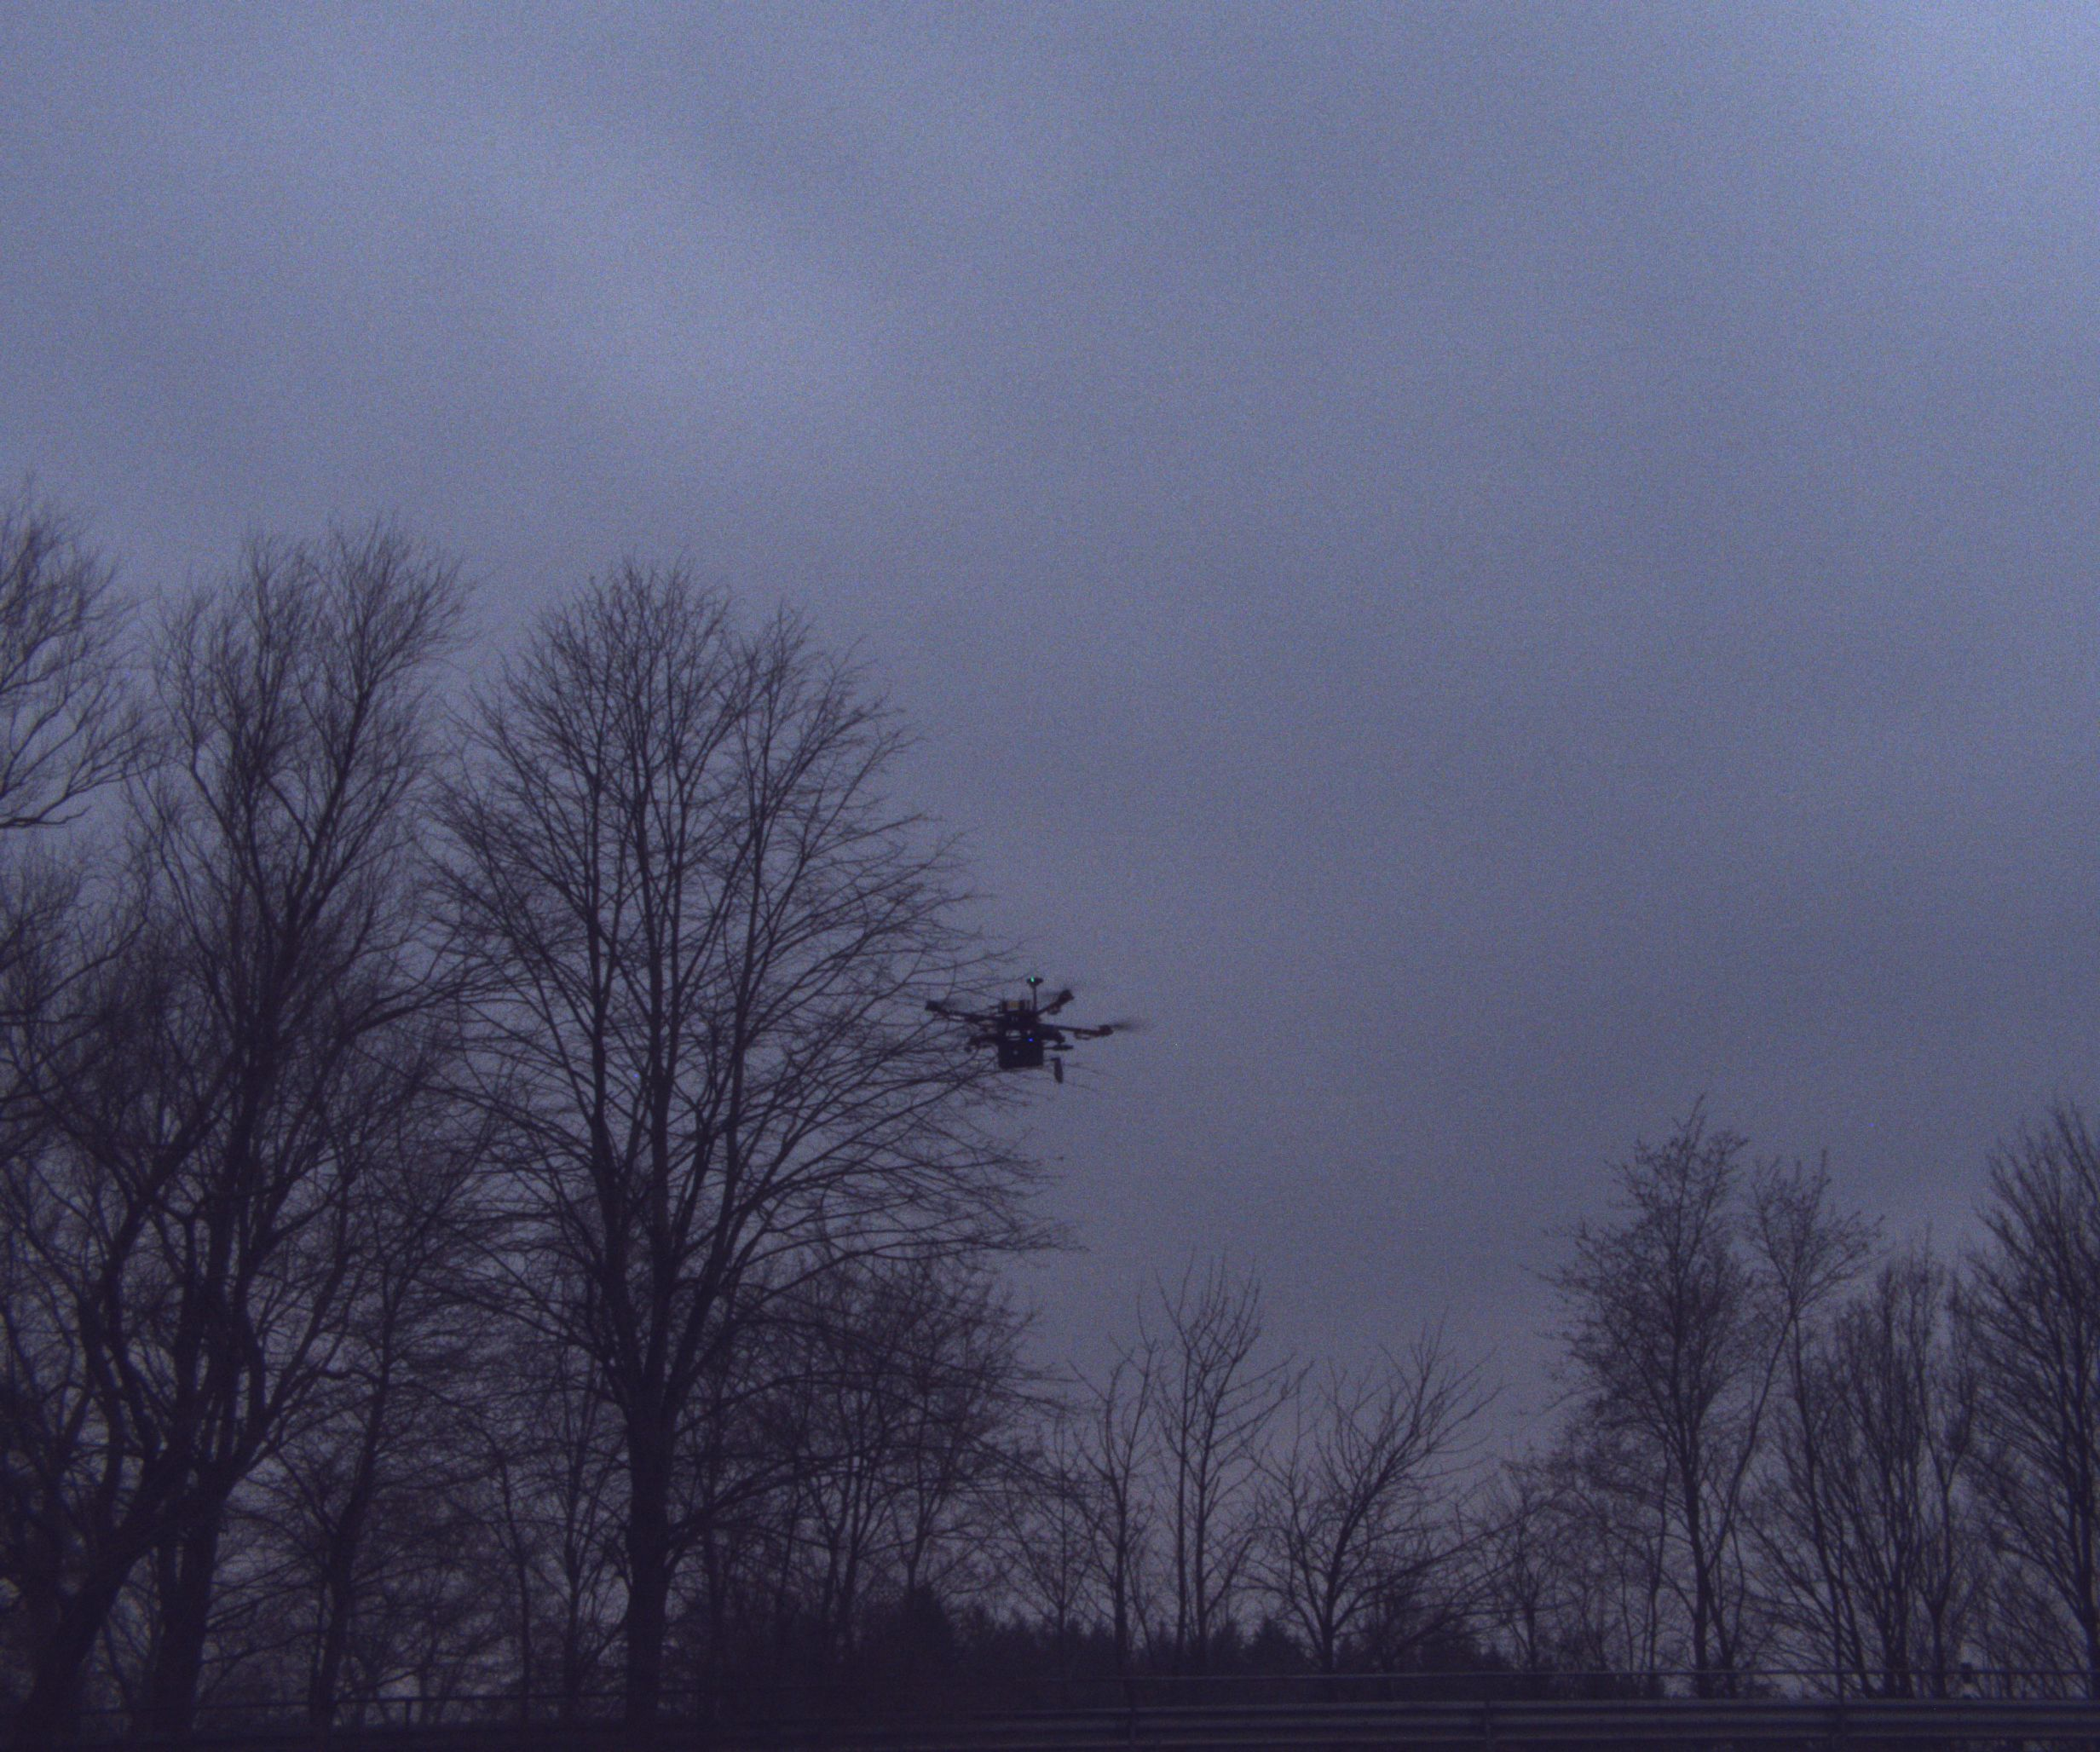Drohne: (931, 969, 1116, 1072)
